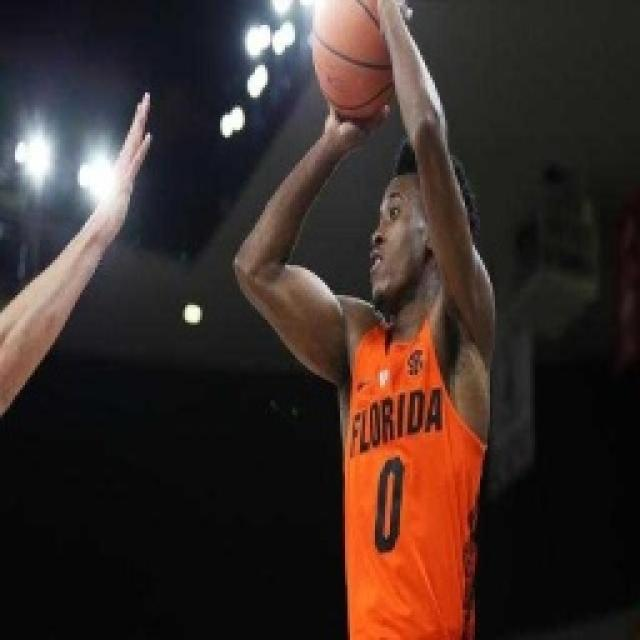rim: (304, 0, 408, 125)
